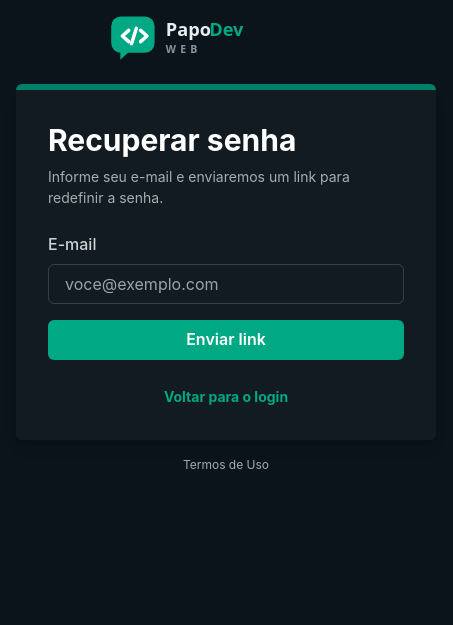
ForgotPasswordPage › mostra erro quando a requisição falha
The image size is (453, 625).
Type "maria@example.com" into the field labelled "E-mail" at (226, 284), box [48,264,404,304]
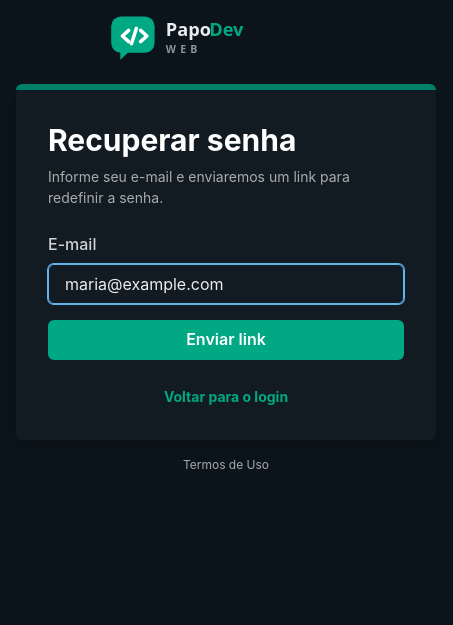
Click the button "Enviar link" at (226, 340), box [48,320,404,360]
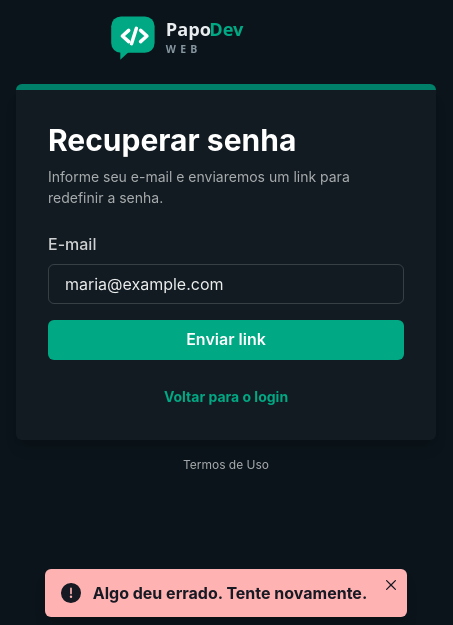
expect the text "Algo deu errado. Tente novamente." is shown: met, box [93,581,367,605]
